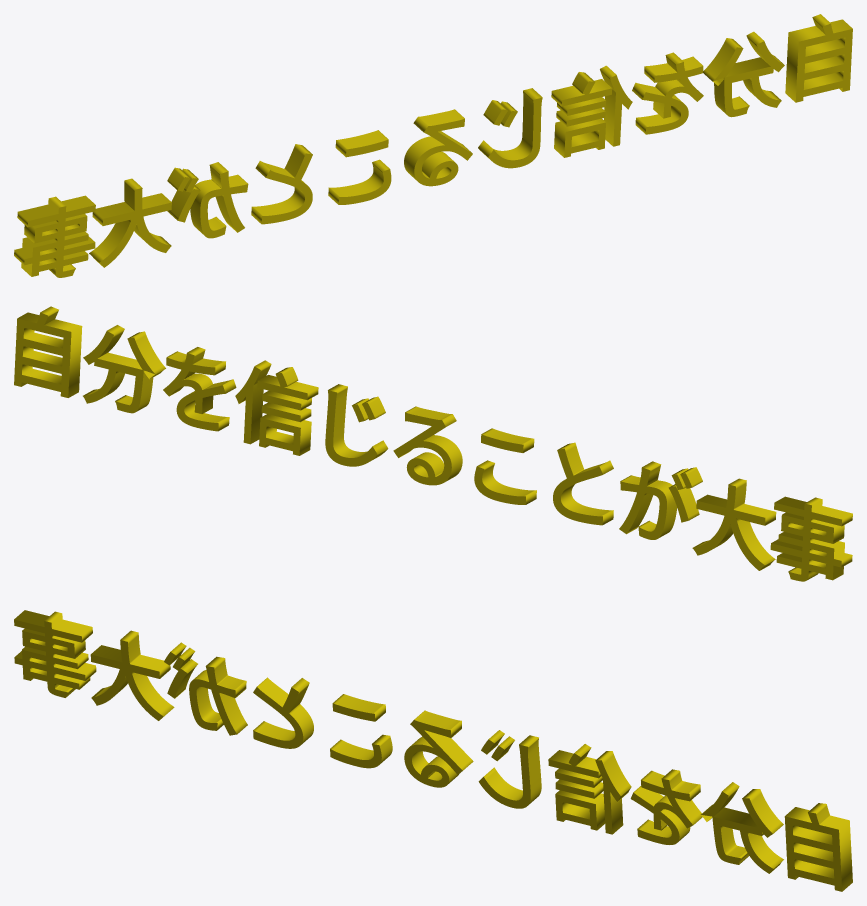
Rendered from ClearFont.obj.
The picture shows the model from 3 angles, top to bottom: view 1: azimuth 30°, elevation 25°; view 2: azimuth 150°, elevation 25°; view 3: azimuth 330°, elevation 25°; orthographic projection.
Visible parts, largest first — view 1: テキスト; view 2: テキスト; view 3: テキスト.
Part boxes in pixels (box(x1,y1,x2,y2)): テキスト: box(14, 14, 852, 277); テキスト: box(14, 306, 852, 581); テキスト: box(14, 610, 852, 891).
Size of the model in its own units: 21.63 by 1.94 by 0.843.
